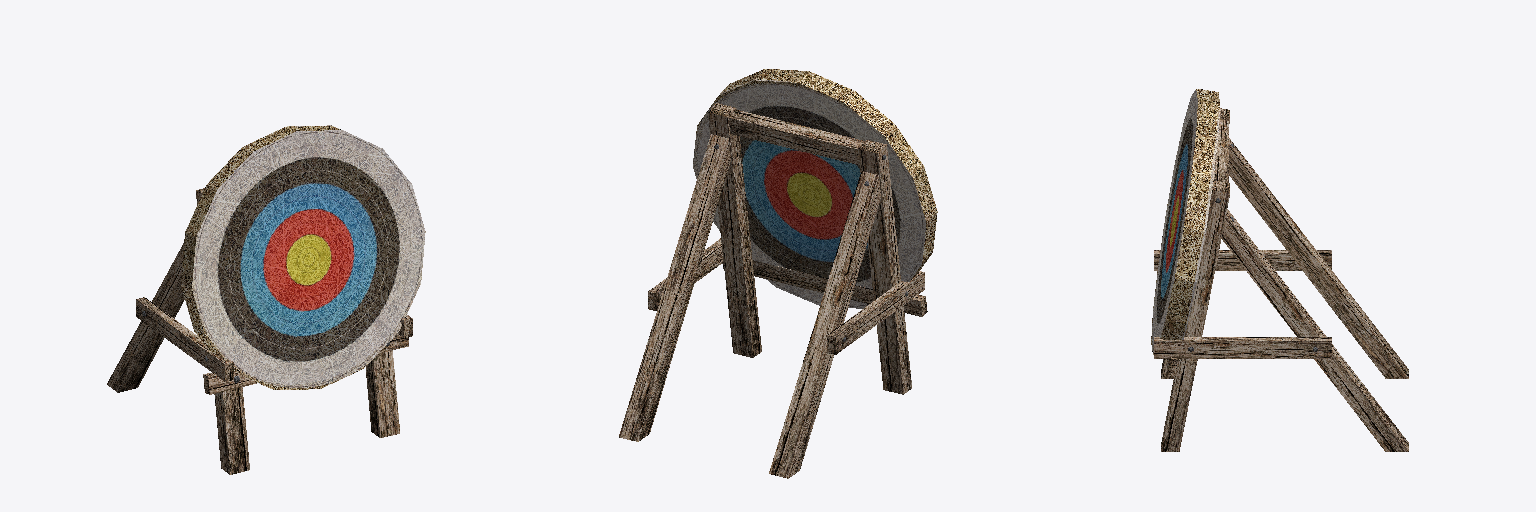
3 renders of one model, left to right at view 1: azimuth 30°, elevation 25°; view 2: azimuth 150°, elevation 25°; view 3: azimuth 270°, elevation 25°, orthographic.
Parts seen in each view (by area): view 1: object_0; view 2: object_0; view 3: object_0.
Part boxes in pixels (x1,y1,x2,y2): object_0: (107, 125, 425, 474); object_0: (619, 69, 937, 478); object_0: (1151, 89, 1408, 451).
Size of the model in its own units: 12643 by 16008 by 12068.
1 materials, 1 textured.